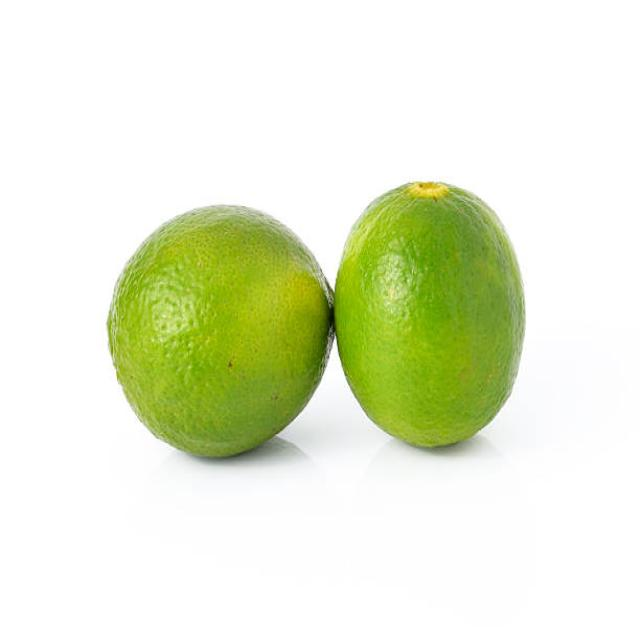Unripe: (108, 202, 336, 461), (335, 180, 528, 452)
